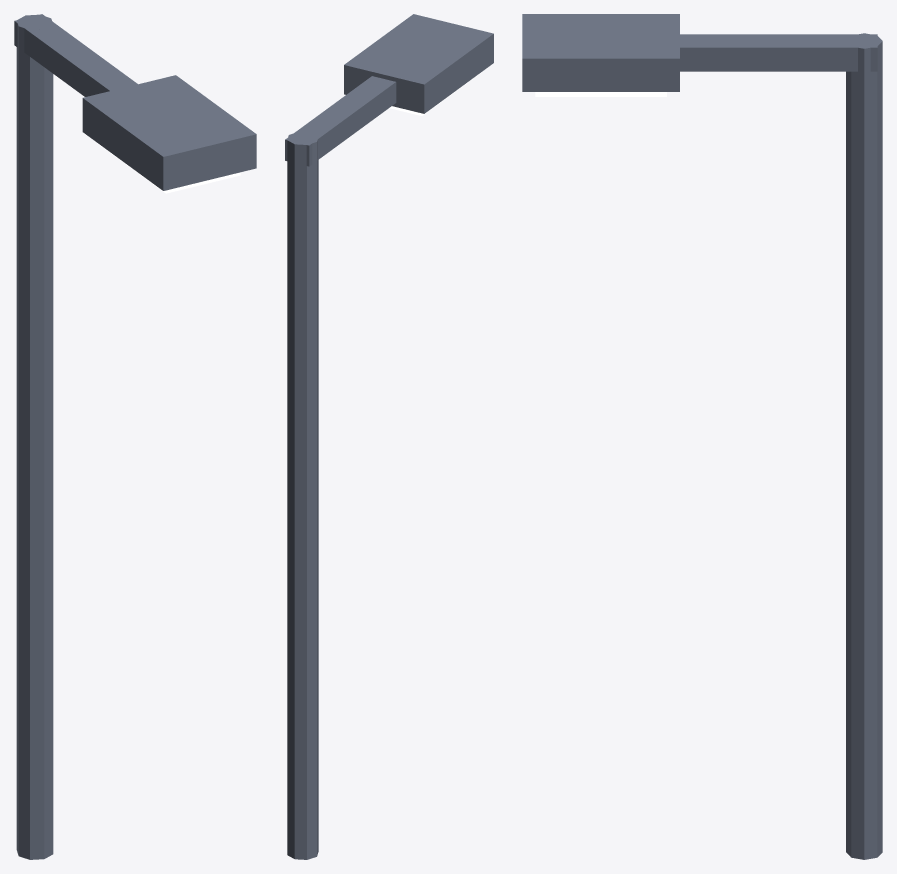
Rendered from lamp_modern.glb.
3 views of the same model, side by side, from view 1: azimuth 30°, elevation 25°; view 2: azimuth 150°, elevation 25°; view 3: azimuth 270°, elevation 25° (orthographic). The views are drawn at different scales.
Visible parts, largest first — view 1: lamp_modern_body; view 2: lamp_modern_body; view 3: lamp_modern_body.
Boxes of the visible parts, bbox=[...] form: lamp_modern_body: bbox=[14, 14, 256, 859]; lamp_modern_body: bbox=[285, 14, 493, 859]; lamp_modern_body: bbox=[522, 14, 882, 859].
Size of the model in its own units: 0.04 by 0.342 by 0.137.
